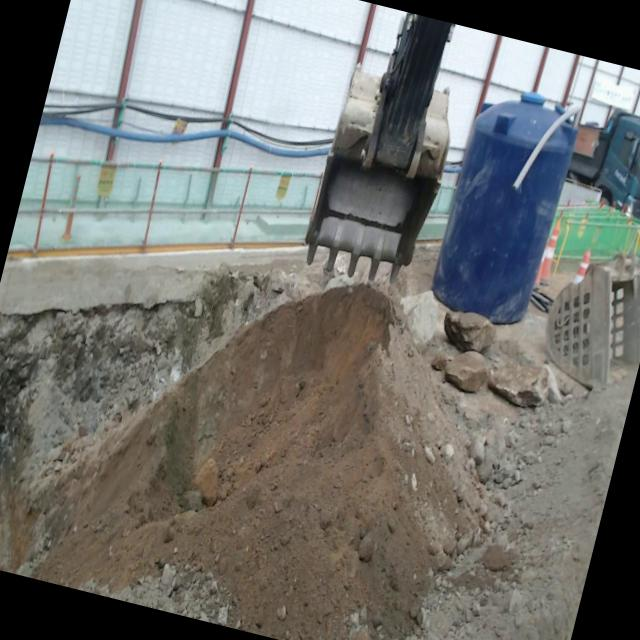cement: (0, 245, 304, 318)
sand: (0, 285, 636, 640)
stone: (487, 354, 556, 407), (443, 310, 496, 352), (400, 290, 438, 345), (443, 351, 488, 391)
